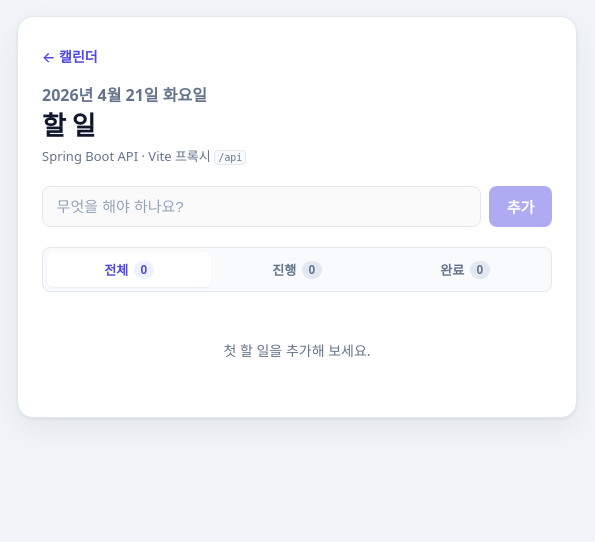
Scenario: TodoDayPage › restores title when 취소 after 추가
The width and height of the screenshot is (595, 542).
In the field named "새 할 일": [262, 206] box [42,186,481,227], type "draft-only"
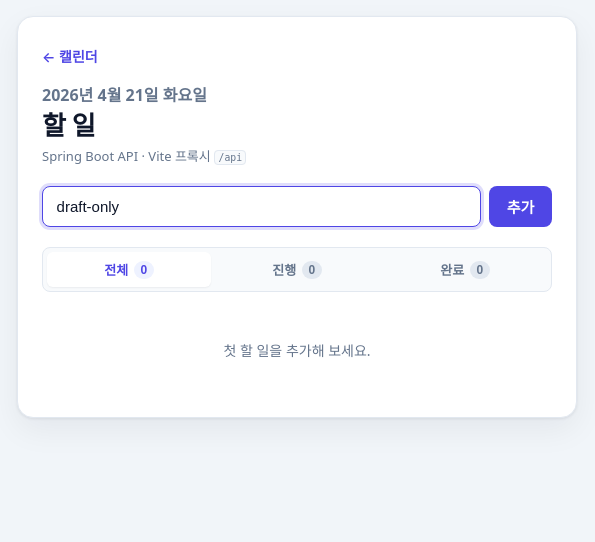
Click the button "추가": [521, 206] box [489,186,552,227]
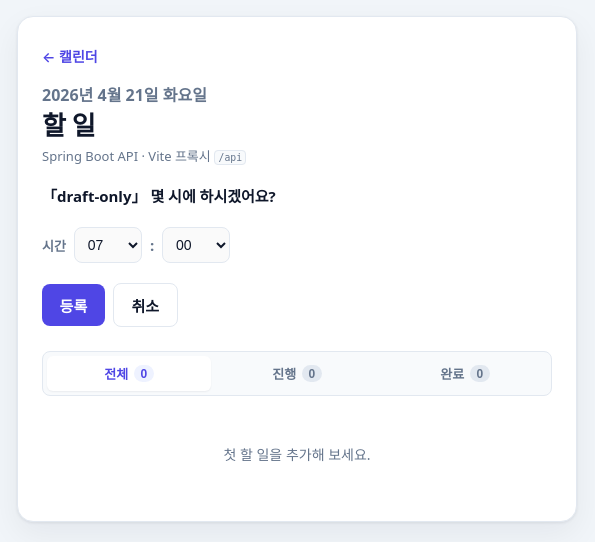
Click the button "취소": [145, 305] box [113,283,178,327]
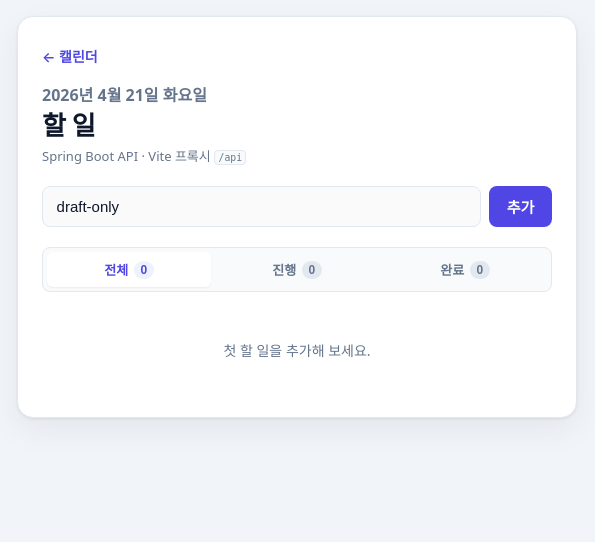
Expected: the field named "새 할 일" holds "draft-only", [42,186,481,227]
